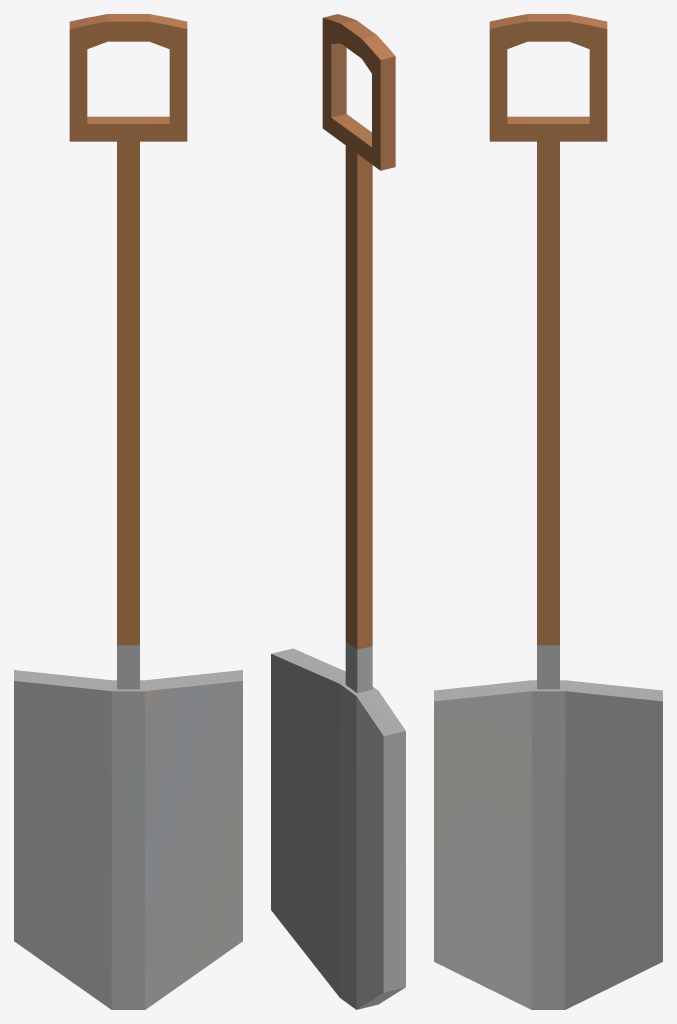
Rendered from shovel-by-poly-by-google-a9-g0Ylwft7.glb.
3 renders of one model, left to right at view 1: azimuth 90°, elevation 25°; view 2: azimuth 210°, elevation 25°; view 3: azimuth 270°, elevation 25°, orthographic.
Visible parts, largest first — view 1: SHOVEL_Cube.020; view 2: SHOVEL_Cube.020; view 3: SHOVEL_Cube.020.
Boxes of the visible parts, x1,y1,x2,y2 form: SHOVEL_Cube.020: (14,14,242,1009); SHOVEL_Cube.020: (271,14,405,1009); SHOVEL_Cube.020: (434,14,662,1009).
Bounding box in the file's own units: 0.123 × 2.67 × 0.5607.
Materials: 1 (1 with a texture image).
